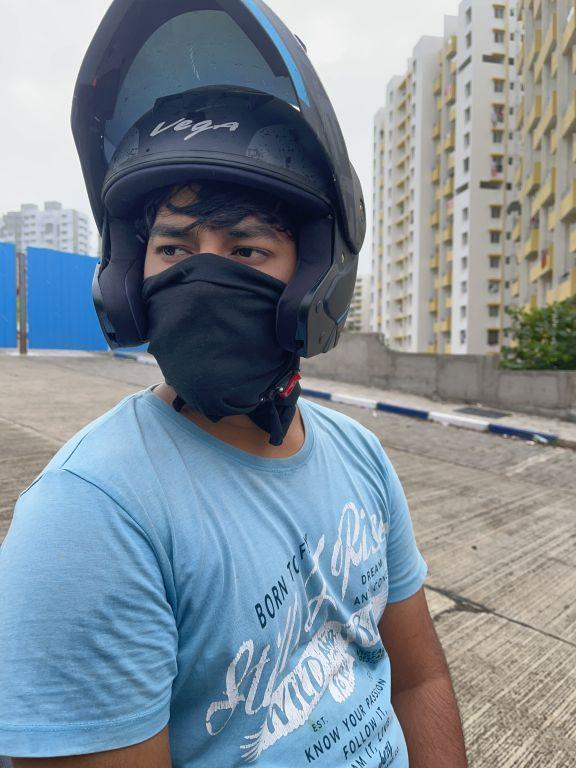helmet: (49, 0, 376, 423)
